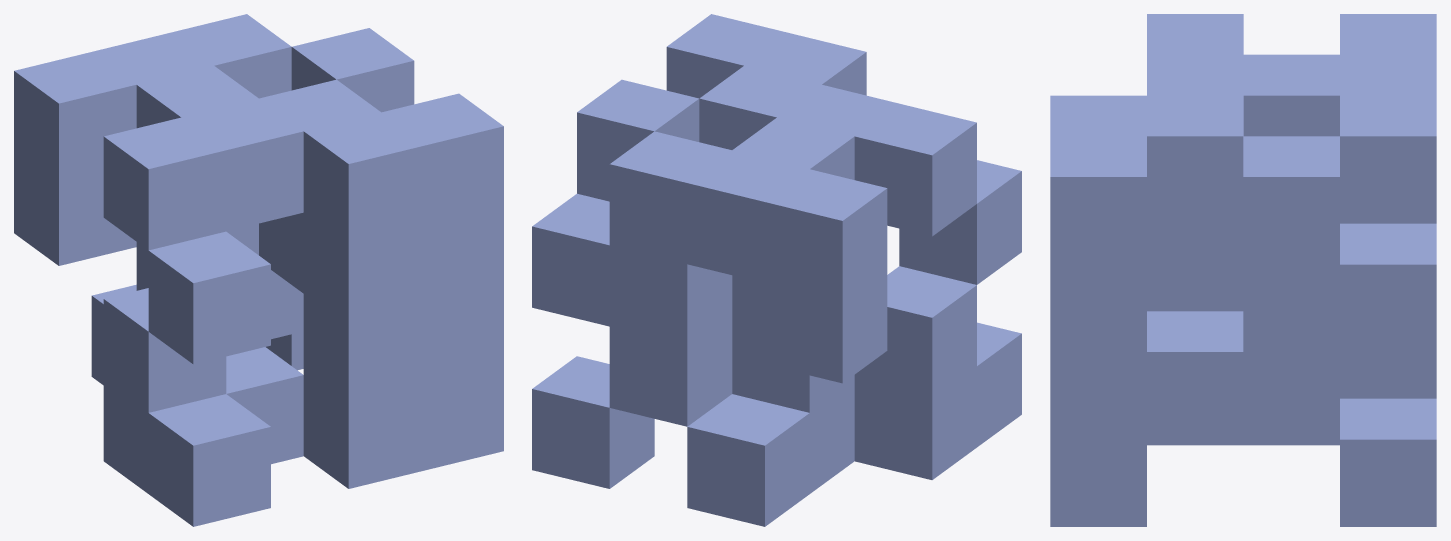
3 views of the same model, side by side, from view 1: azimuth 30°, elevation 25°; view 2: azimuth 150°, elevation 25°; view 3: azimuth 270°, elevation 25° (orthographic). The views are drawn at different scales.
Parts seen in each view (by area): view 1: _changes.007; view 2: _changes.007; view 3: _changes.007.
Boxes of the visible parts, x1,y1,x2,y2 form: _changes.007: (14, 14, 503, 526); _changes.007: (532, 14, 1021, 526); _changes.007: (1050, 14, 1436, 526).
Bounding box in the file's own units: 0.1041 × 0.1041 × 0.1041.
